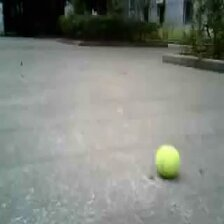tennis: (155, 144, 179, 179)
